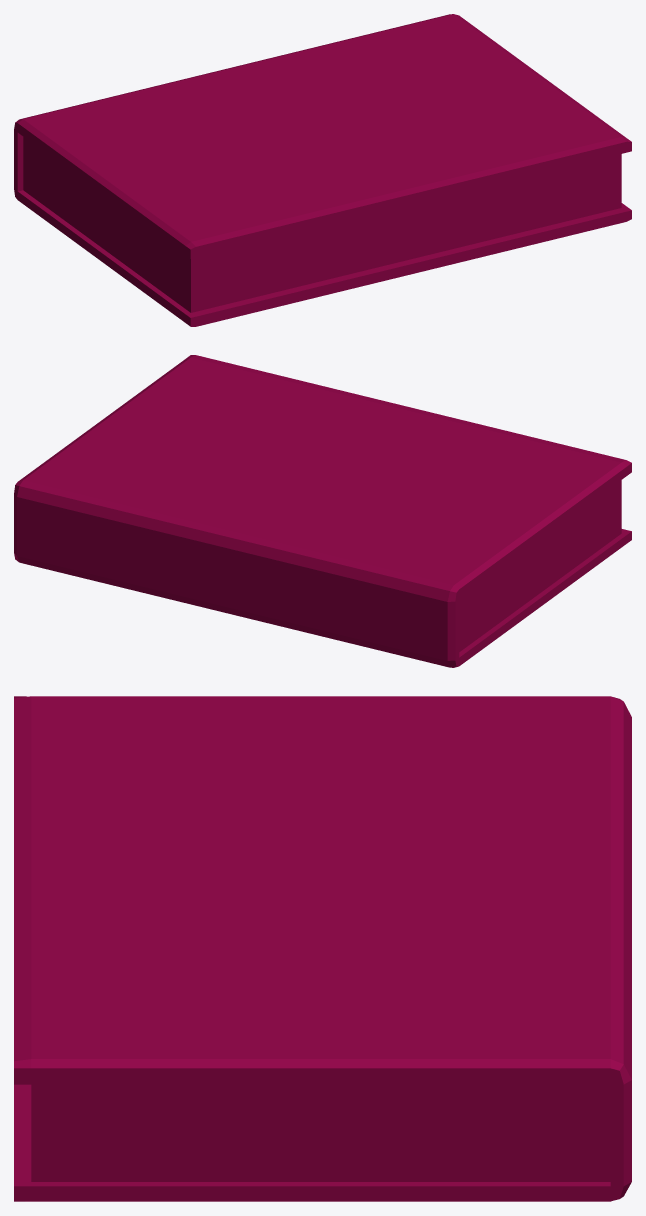
The model's file is Book_03.fbx.
3 views of the same model, one above another, from view 1: azimuth 30°, elevation 25°; view 2: azimuth 150°, elevation 25°; view 3: azimuth 270°, elevation 25° (orthographic). The views are drawn at different scales.
Parts seen in each view (by area): view 1: Book_03; view 2: Book_03; view 3: Book_03.
Boxes of the visible parts, left/top/right/bottom form: Book_03: left=14, top=14, right=631, bottom=326; Book_03: left=14, top=355, right=631, bottom=667; Book_03: left=14, top=696, right=631, bottom=1201.
Bounding box in the file's own units: 127 × 22.78 × 89.49.
